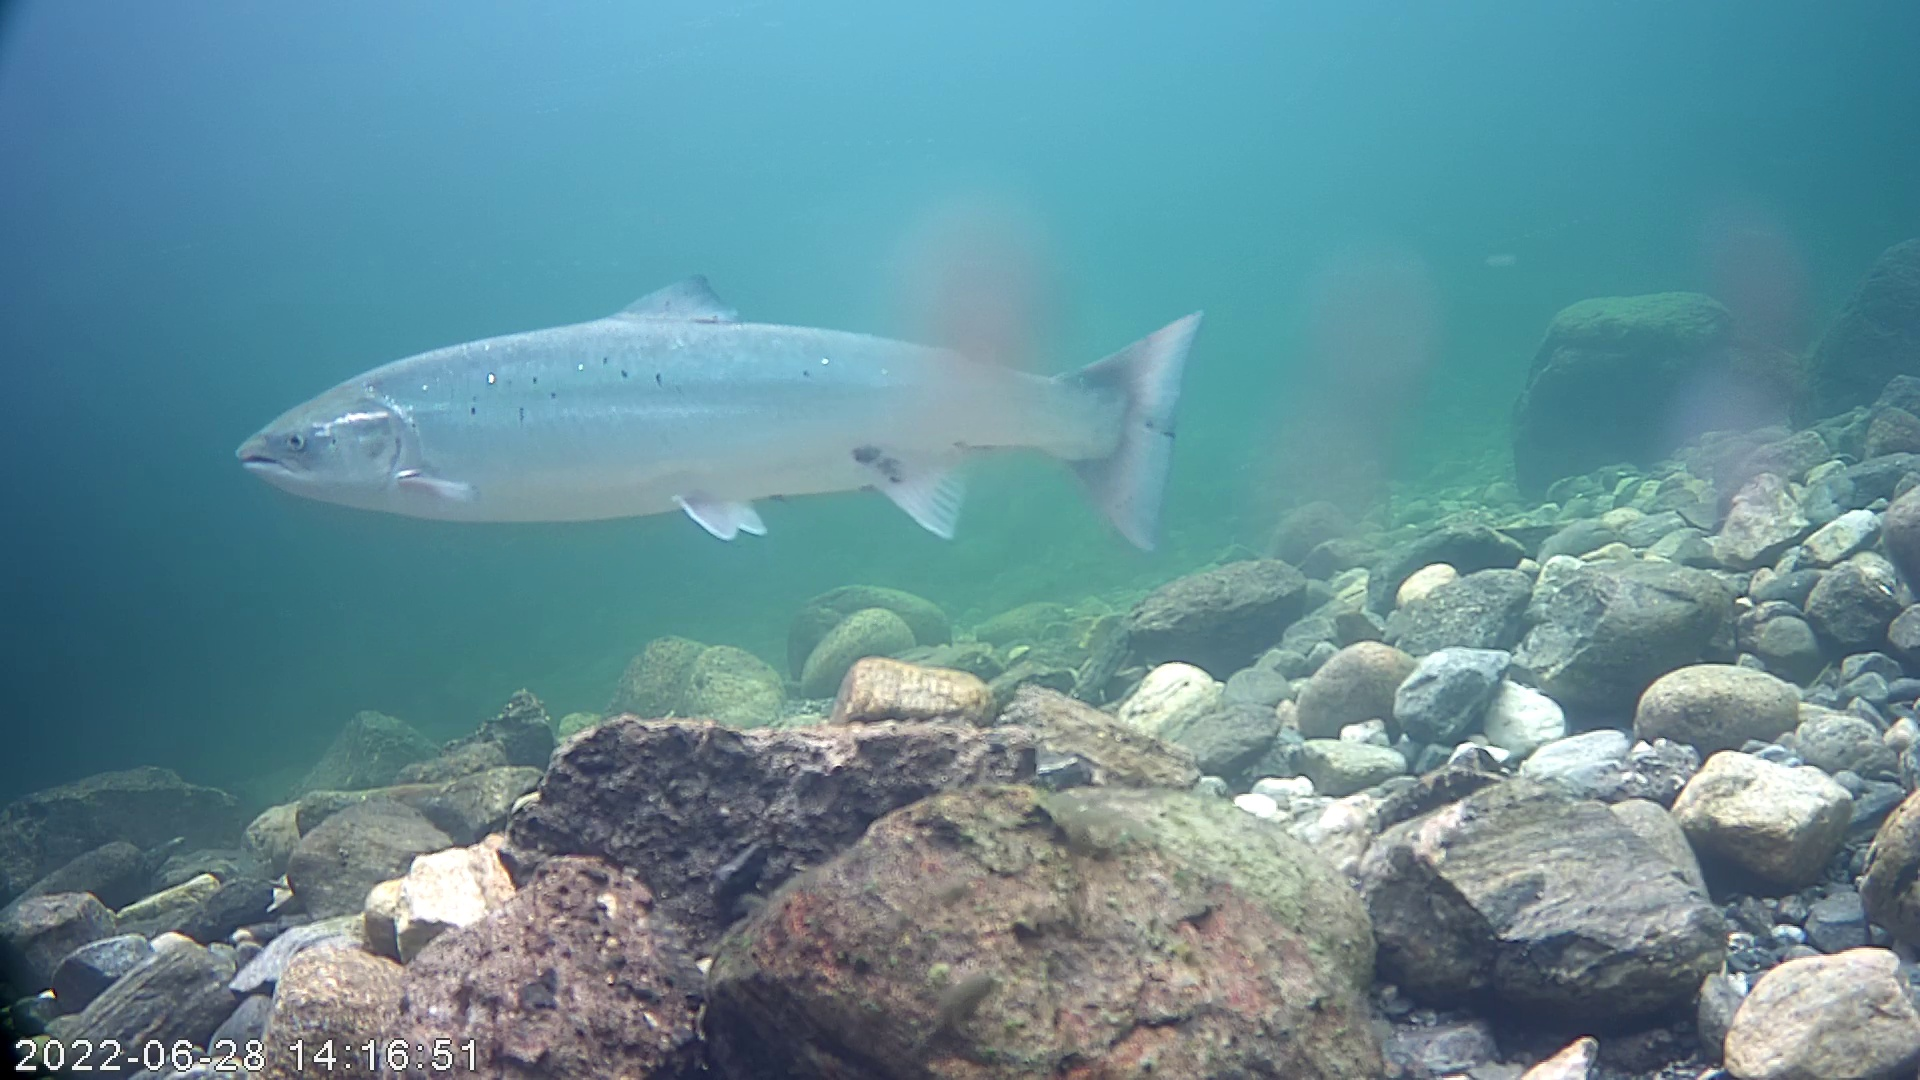salmon: (215, 171, 1208, 609)
